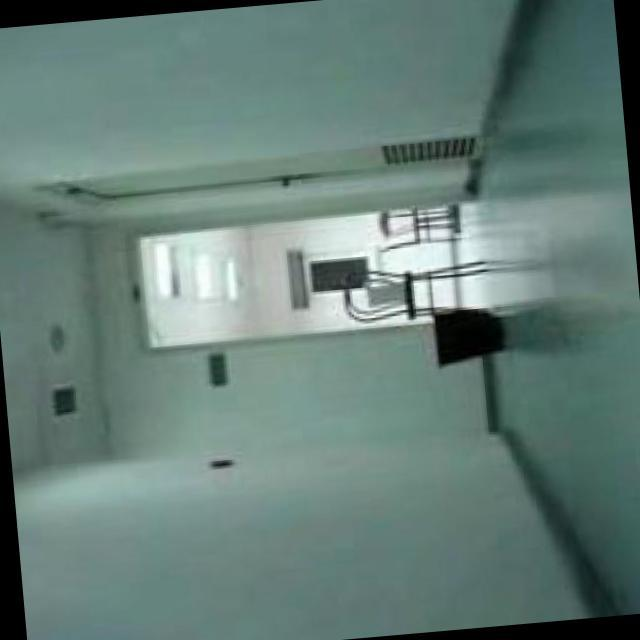Fire: (428, 316, 435, 330)
